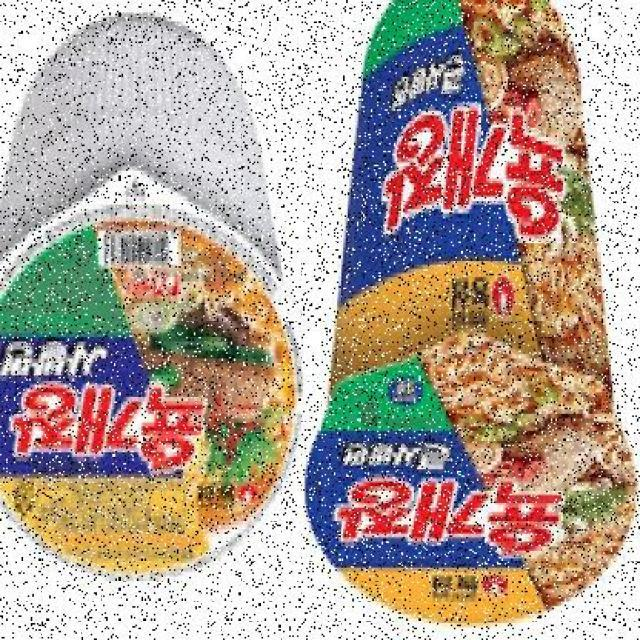Miscellaneous: (304, 0, 638, 628), (0, 29, 308, 585)
